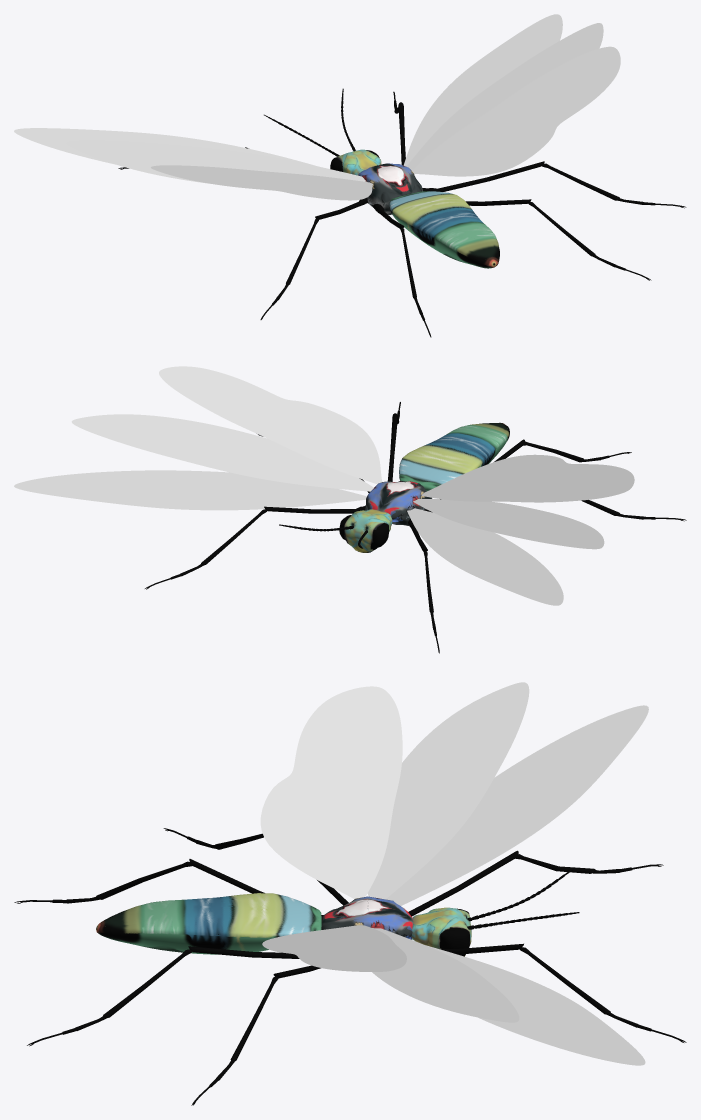
File: libelula1.fbx
The picture shows the model from 3 angles, top to bottom: view 1: azimuth 30°, elevation 25°; view 2: azimuth 150°, elevation 25°; view 3: azimuth 270°, elevation 25°; orthographic projection. The views are drawn at different scales.
Parts seen in each view (by area): view 1: Plane.005, cuerpo, Plane.001, Plane.003, Plane.004, Plane.002, Plane.000, torso, pata.003, cabeza, antpata.001, pata.001 (+1 smaller); view 2: Plane.005, Plane.003, Plane.004, Plane.002, Plane.000, Plane.001, cuerpo, torso, pata.003, cabeza, pata.002, antpata.002 (+1 smaller); view 3: Plane.002, Plane.001, Plane.000, cuerpo, Plane.003, Plane.004, Plane.005, pata.003, torso, cabeza, pata, pata.002 (+2 smaller).
Part boxes in pixels (x1,y1,x2,y2): Plane.005: (412,46,620,176); cuerpo: (389,191,499,268); Plane.001: (66,140,366,183); Plane.003: (403,14,562,166); Plane.004: (406,23,603,169); Plane.002: (151,165,372,200); Plane.000: (14,128,315,165); torso: (358,163,422,214); pata.003: (118,147,431,337); cabeza: (335,149,381,175); antpata.001: (422,161,544,191); pata.001: (542,163,686,208); Plane.005: (159,366,382,484); Plane.003: (14,470,366,510); Plane.004: (71,414,373,491); Plane.002: (421,454,634,502); Plane.000: (407,508,563,605); Plane.001: (413,499,604,549); cuerpo: (399,422,509,491); torso: (365,481,432,525); pata.003: (408,439,686,653); cabeza: (344,509,392,552); pata.002: (145,509,267,589); antpata.002: (264,505,365,513); Plane.002: (260,686,402,899); Plane.001: (367,682,529,899); Plane.000: (386,705,648,905); cuerpo: (96,893,321,954); Plane.003: (426,945,645,1065); Plane.004: (372,928,519,1022); Plane.005: (262,925,406,971); pata.003: (14,828,663,916); torso: (321,896,413,939); cabeza: (411,907,471,956); pata: (27,949,192,1046); pata.002: (520,947,686,1042).
Size of the model in its own units: 2246 by 425 by 1869.
Materials: 10 (3 with a texture image).
